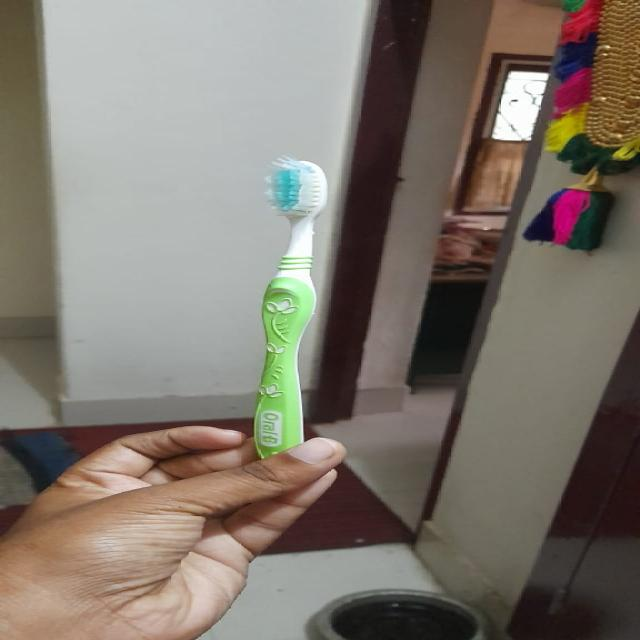Tooth_Brush - Non Recyclable: (176, 127, 422, 501)
